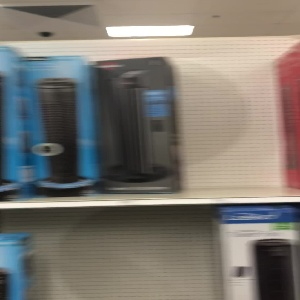void: (170, 41, 300, 193), (34, 210, 210, 300)
